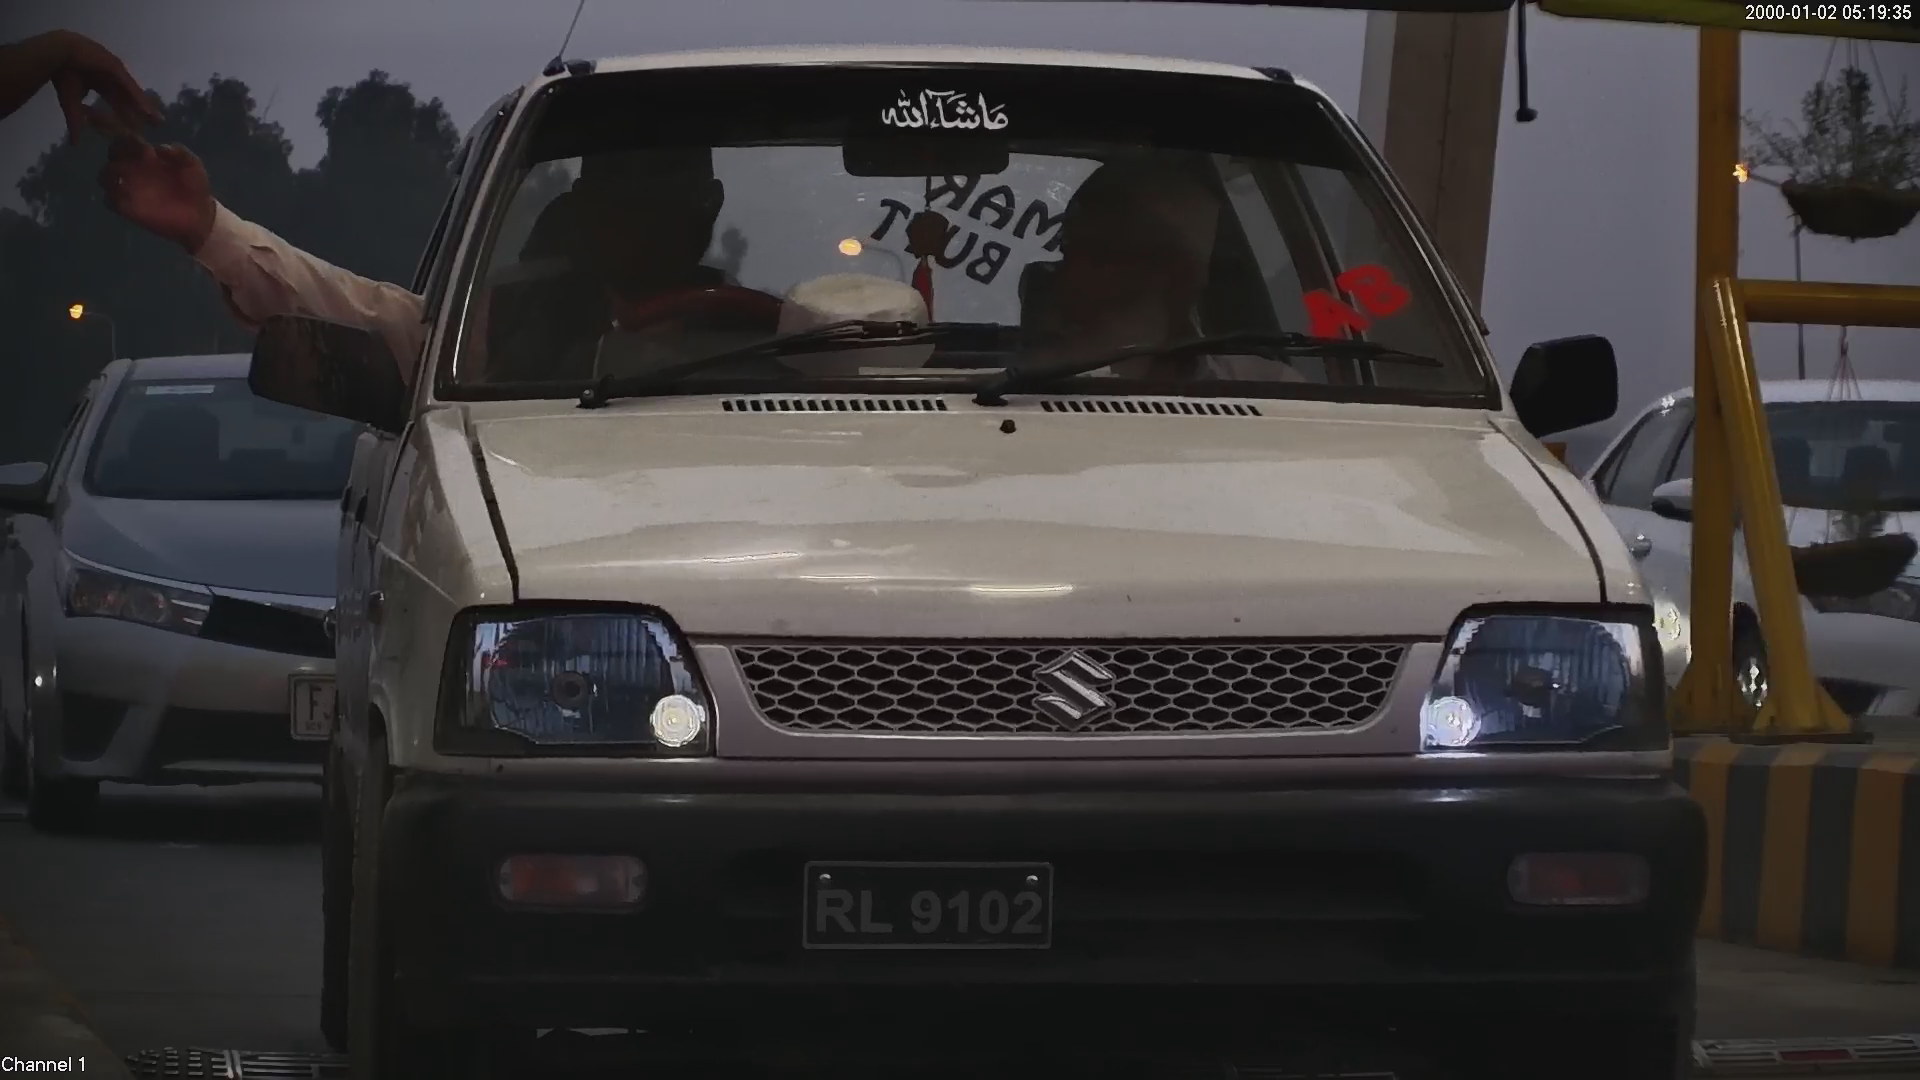Number_Plate: (784, 842, 1066, 969)
